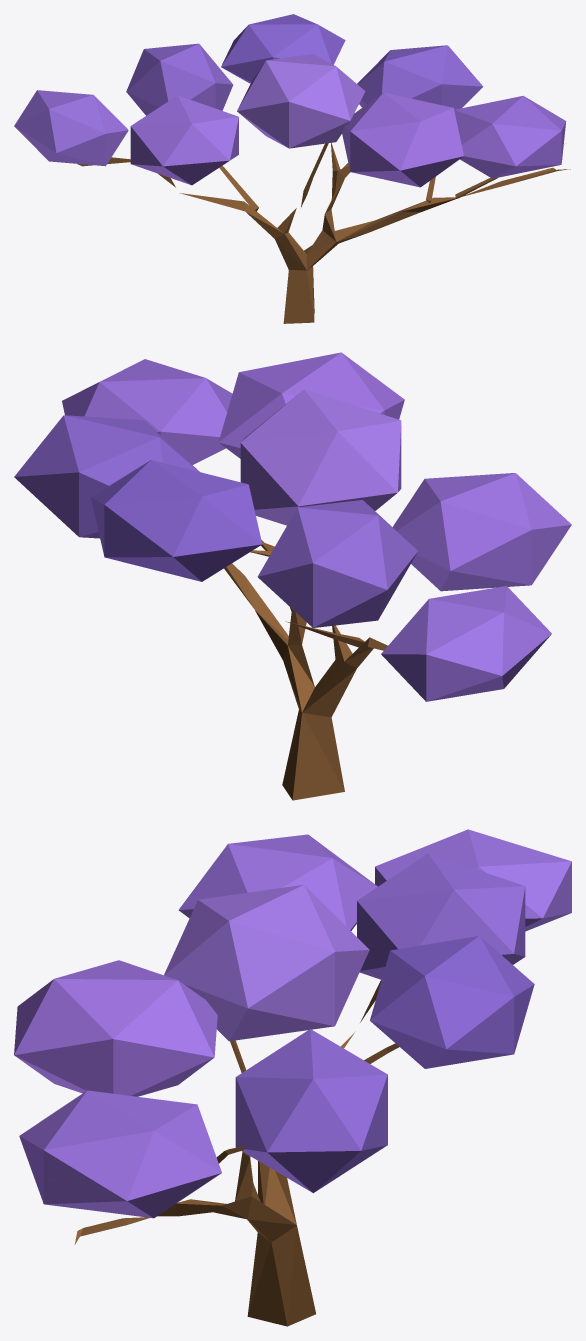
Rendered from jacaranda_4_bloom_far.glb.
3 views of the same model, one above another, from view 1: azimuth 30°, elevation 25°; view 2: azimuth 150°, elevation 25°; view 3: azimuth 270°, elevation 25° (orthographic). The views are drawn at different scales.
Visible parts, largest first — view 1: jacaranda_4_bloom_far; view 2: jacaranda_4_bloom_far; view 3: jacaranda_4_bloom_far.
Part boxes in pixels (left/top/right/bottom): jacaranda_4_bloom_far: left=14, top=14, right=570, bottom=323; jacaranda_4_bloom_far: left=14, top=352, right=571, bottom=800; jacaranda_4_bloom_far: left=14, top=829, right=571, bottom=1326.
Size of the model in its own units: 10.11 by 5.81 by 7.2.
